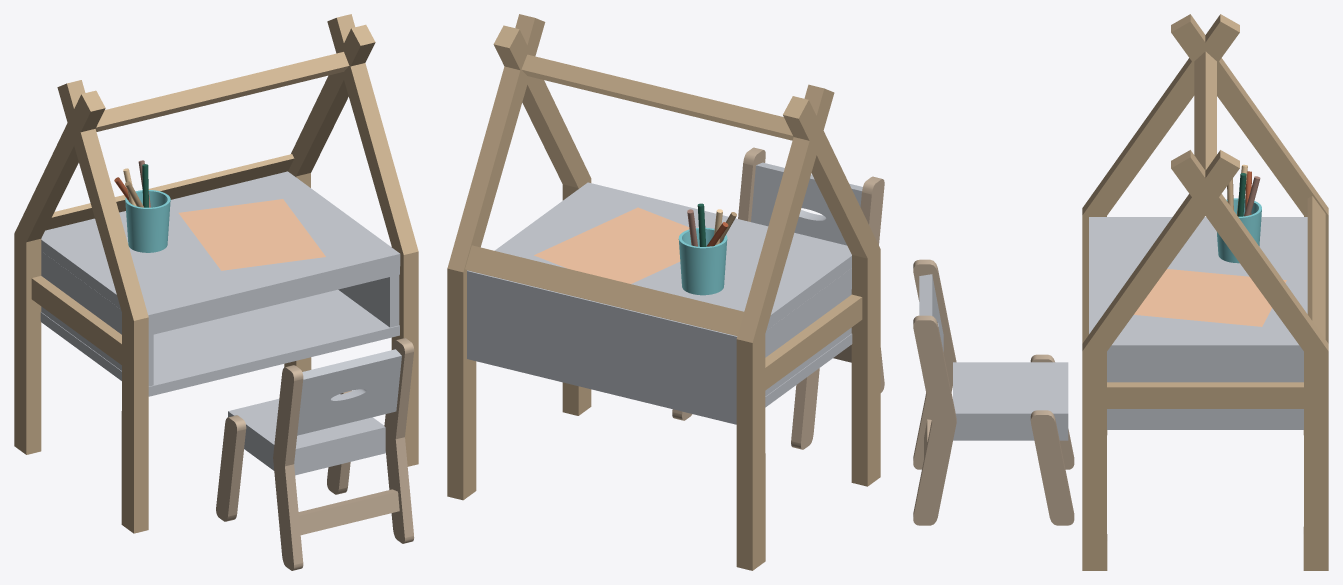
File: Furn2_worktable_color3.fbx
3 views of the same model, side by side, from view 1: azimuth 30°, elevation 25°; view 2: azimuth 150°, elevation 25°; view 3: azimuth 270°, elevation 25° (orthographic). The views are drawn at different scales.
Visible parts, largest first — view 1: Куб.006; view 2: Куб.006; view 3: Куб.006.
Part boxes in pixels (left/top/right/bottom): Куб.006: left=14, top=14, right=418, bottom=570; Куб.006: left=447, top=14, right=884, bottom=570; Куб.006: left=913, top=14, right=1328, bottom=570.
Size of the model in its own units: 204 by 274 by 249.
